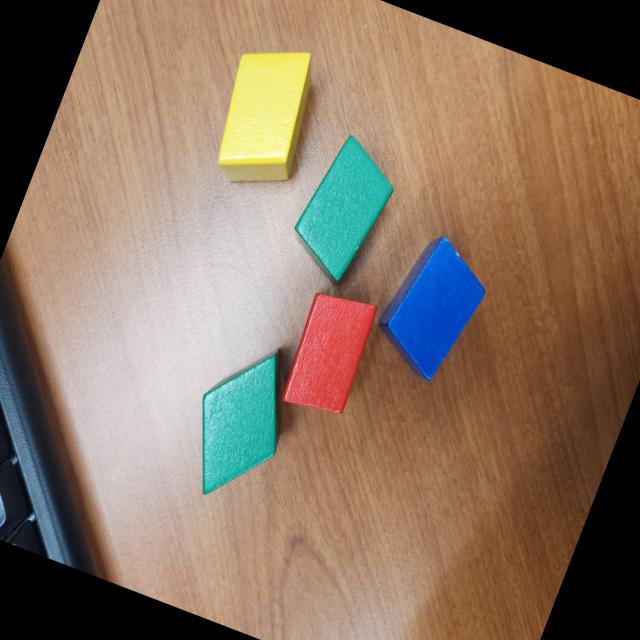blue: (364, 224, 502, 392)
green: (169, 327, 313, 515), (279, 126, 409, 294)
red: (276, 284, 384, 422)
yellow: (197, 31, 334, 202)
